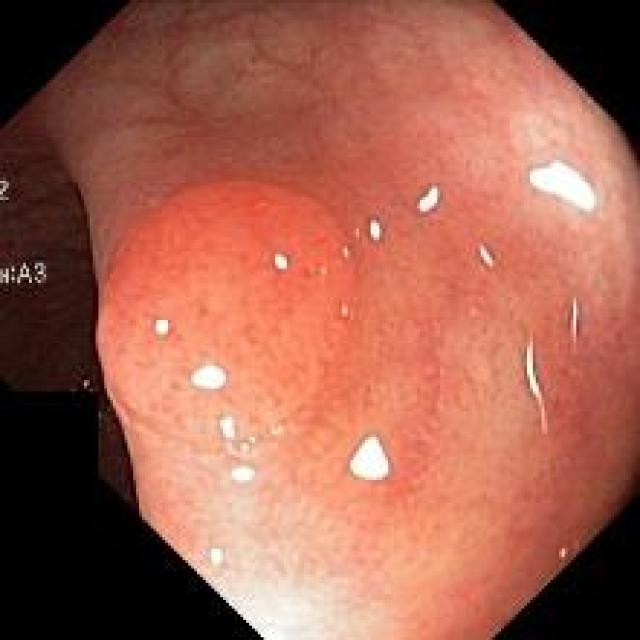Polyps: (99, 181, 356, 447)
